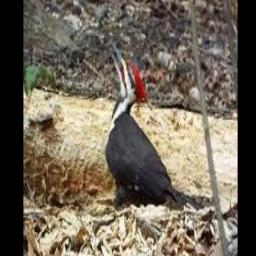Woodpecker: (105, 44, 204, 210)
